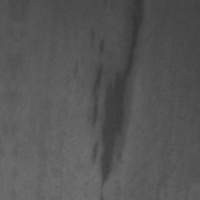inclusion: (79, 14, 141, 192)
